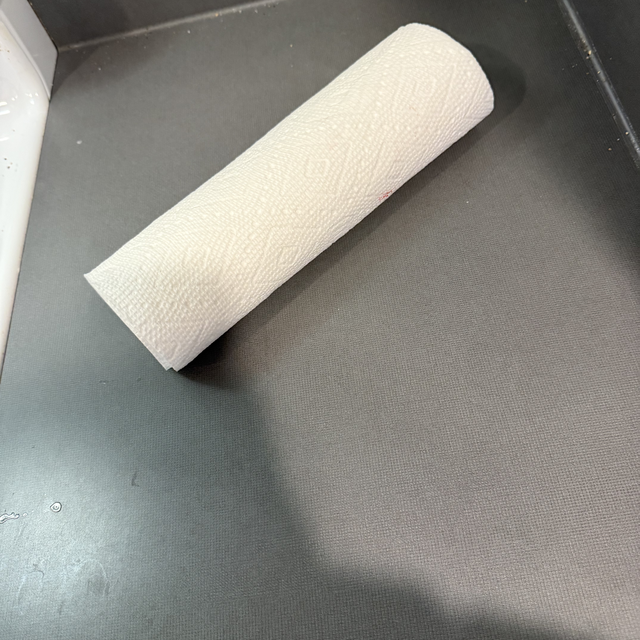Paper Towel: (94, 78, 507, 381)
